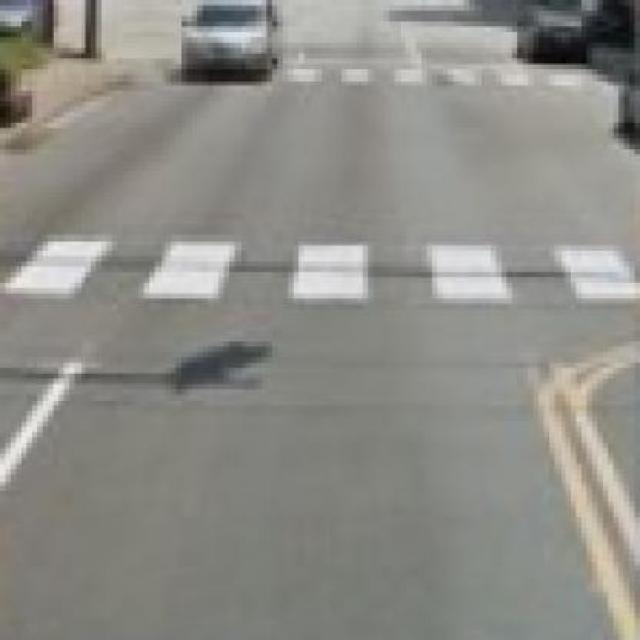crosswalk: (1, 239, 640, 298)
